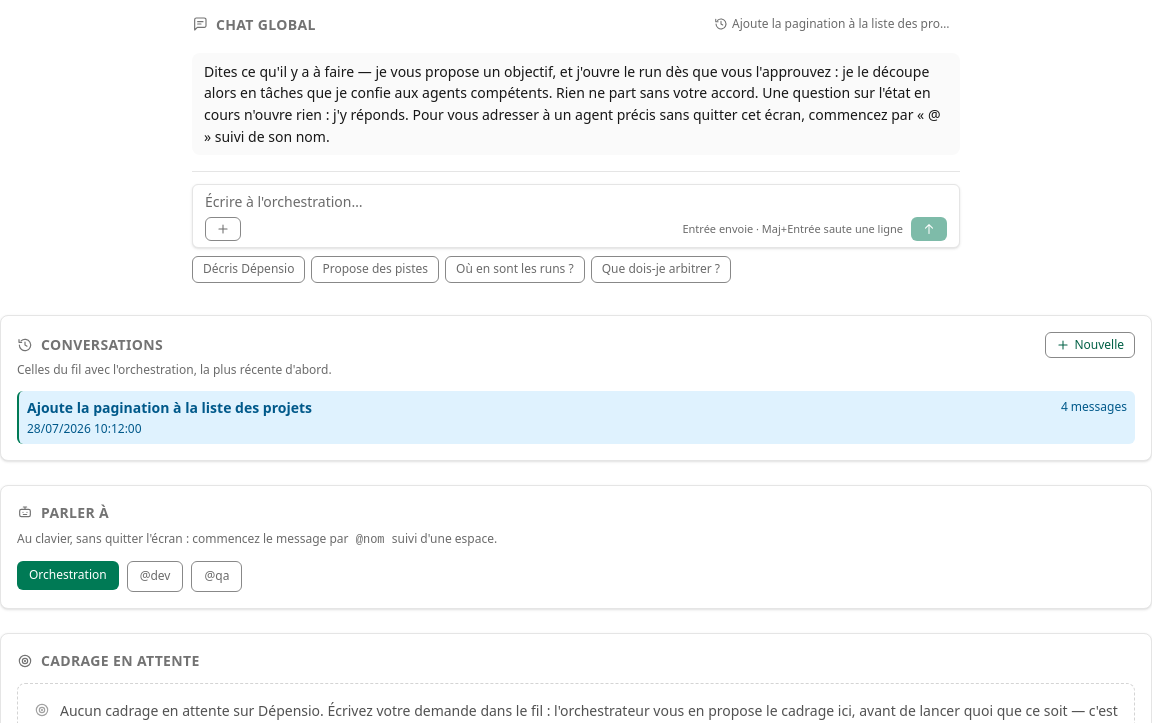
Test: le chat global (#269) › dit où part le message dès qu'on n'est plus sur le fil global
The width and height of the screenshot is (1152, 723).
Type "@dev " into the text box with placeholder "Écrire à l'orchestration…" at (576, 202), box [205,191,947,213]
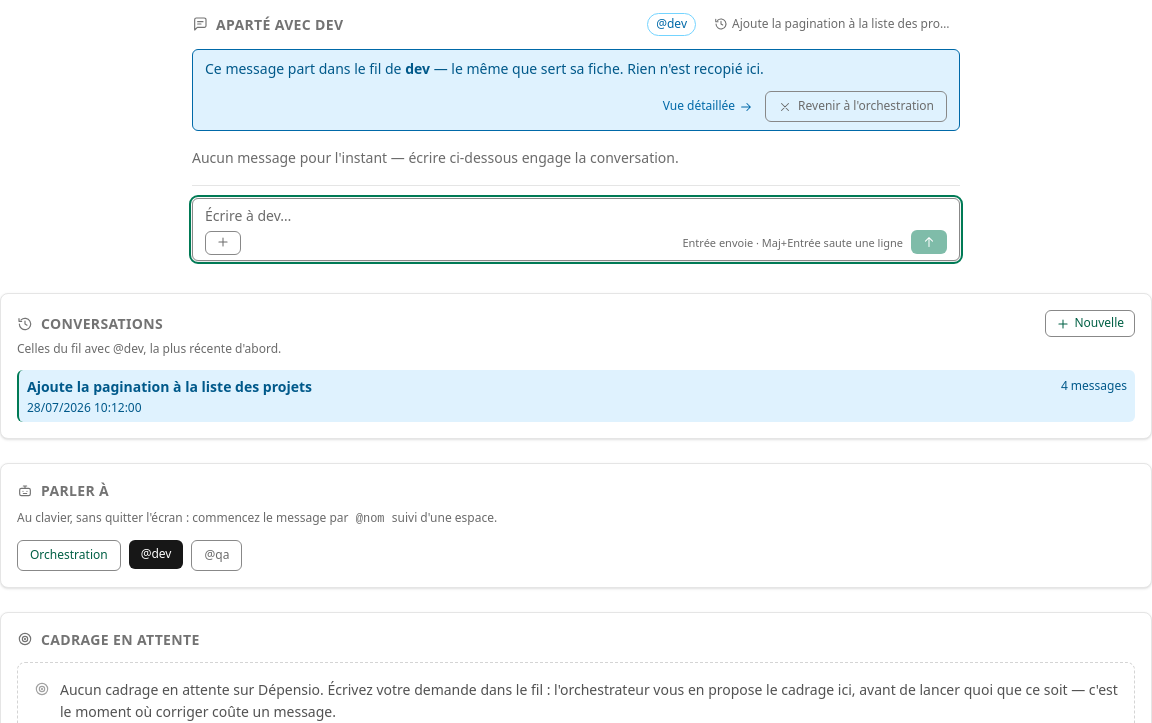
Expected: the heading "Aparté avec dev" is shown, [192,14,343,35]
Expected: the text "Rien n'est recopié ici" is shown, [434,59,764,78]
